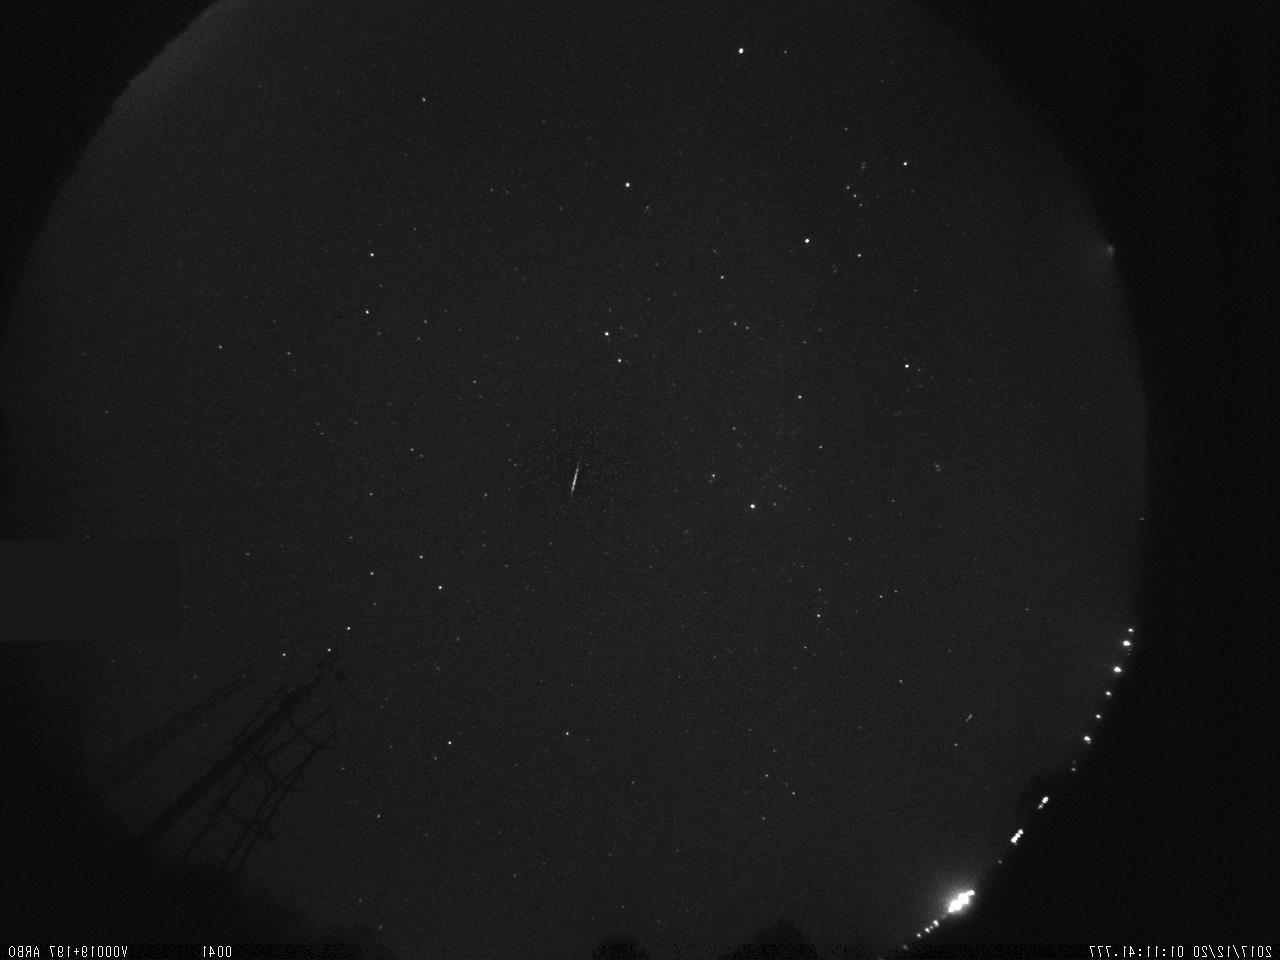meteor: (562, 452, 589, 504)
